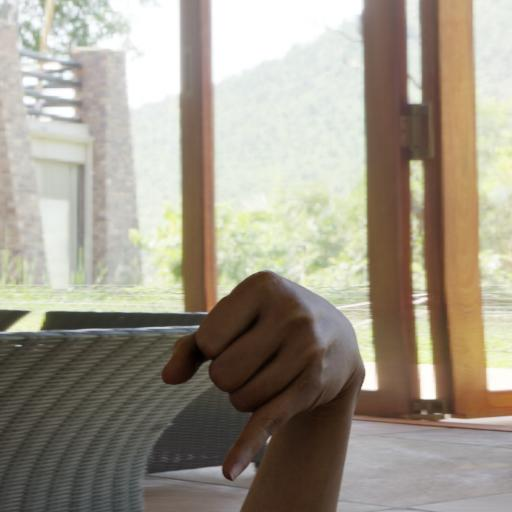J: (157, 256, 376, 498)
